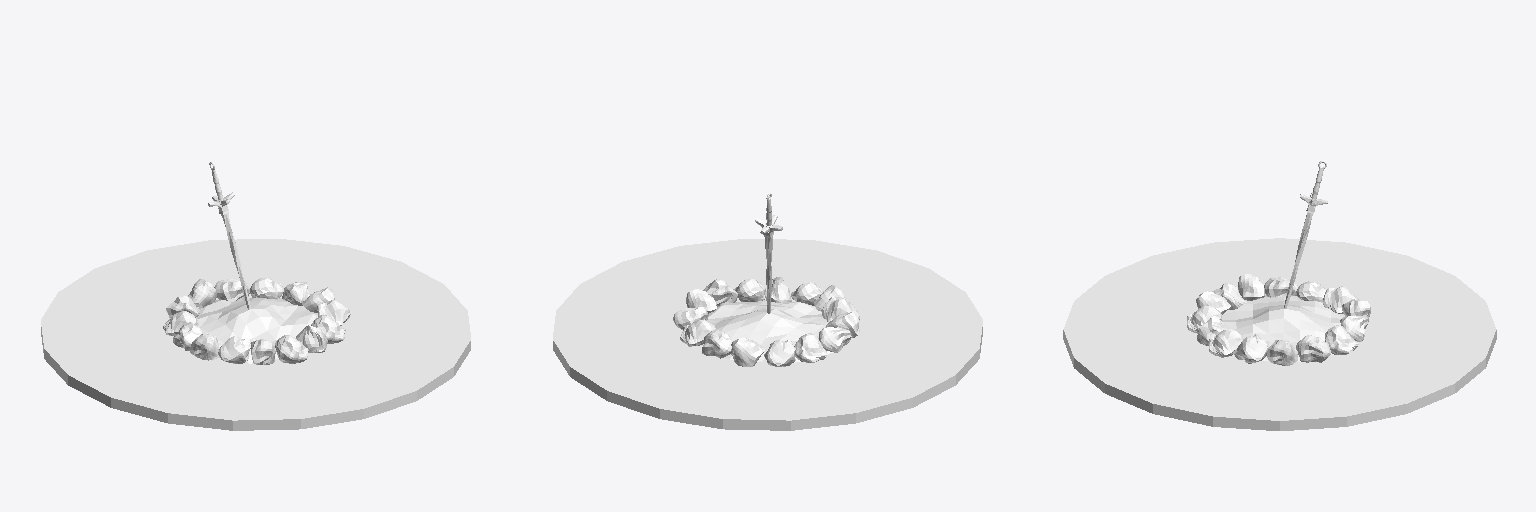
Rendered from bonefire.obj.
3 renders of one model, left to right at view 1: azimuth 30°, elevation 25°; view 2: azimuth 150°, elevation 25°; view 3: azimuth 270°, elevation 25°, orthographic.
Visible parts, largest first — view 1: piso_メッシュ.026, ceniza_メッシュ.002, filo_メッシュ.001, piedra_07_メッシュ.025, piedra_03.001_メッシュ.019, piedra_01.001_メッシュ.017, piedra_05_メッシュ.015, piedra_02.002_メッシュ.022, piedra_04_メッシュ.014, piedra_01.002_メッシュ.021, piedra_04.002_メッシュ.024, piedra_06_メッシュ.016; view 2: piso_メッシュ.026, ceniza_メッシュ.002, piedra_01.002_メッシュ.021, piedra_04.001_メッシュ.020, filo_メッシュ.001, piedra_03.002_メッシュ.023, piedra_02.002_メッシュ.022, piedra_02.001_メッシュ.018, piedra_04.002_メッシュ.024, piedra_03_メッシュ.013, piedra_04_メッシュ.014; view 3: piso_メッシュ.026, ceniza_メッシュ.002, filo_メッシュ.001, piedra_02_メッシュ.012, piedra_04_メッシュ.014, piedra_03_メッシュ.013, piedra_04.002_メッシュ.024, piedra_01_メッシュ.011, piedra_01.001_メッシュ.017, piedra_03.002_メッシュ.023.
Boxes of the visible parts, x1=… form: piso_メッシュ.026: x1=41, y1=239, x2=470, y2=430; ceniza_メッシュ.002: x1=196, y1=297, x2=317, y2=363; filo_メッシュ.001: x1=208, y1=192, x2=250, y2=309; piedra_07_メッシュ.025: x1=275, y1=335, x2=308, y2=363; piedra_03.001_メッシュ.019: x1=218, y1=336, x2=250, y2=363; piedra_01.001_メッシュ.017: x1=190, y1=334, x2=221, y2=360; piedra_05_メッシュ.015: x1=296, y1=325, x2=327, y2=352; piedra_02.002_メッシュ.022: x1=214, y1=279, x2=250, y2=301; piedra_04_メッシュ.014: x1=311, y1=315, x2=345, y2=343; piedra_01.002_メッシュ.021: x1=188, y1=279, x2=217, y2=307; piedra_04.002_メッシュ.024: x1=250, y1=278, x2=282, y2=299; piedra_06_メッシュ.016: x1=250, y1=339, x2=275, y2=364; piso_メッシュ.026: x1=553, y1=239, x2=982, y2=430; ceniza_メッシュ.002: x1=702, y1=300, x2=832, y2=362; piedra_01.002_メッシュ.021: x1=730, y1=338, x2=764, y2=366; piedra_04.001_メッシュ.020: x1=794, y1=333, x2=827, y2=362; filo_メッシュ.001: x1=755, y1=215, x2=782, y2=313; piedra_03.002_メッシュ.023: x1=764, y1=339, x2=795, y2=366; piedra_02.002_メッシュ.022: x1=702, y1=329, x2=732, y2=358; piedra_02.001_メッシュ.018: x1=819, y1=327, x2=851, y2=352; piedra_04.002_メッシュ.024: x1=680, y1=320, x2=715, y2=346; piedra_03_メッシュ.013: x1=703, y1=279, x2=737, y2=306; piedra_04_メッシュ.014: x1=733, y1=279, x2=765, y2=301; piso_メッシュ.026: x1=1063, y1=238, x2=1496, y2=430; ceniza_メッシュ.002: x1=1222, y1=295, x2=1344, y2=361; filo_メッシュ.001: x1=1284, y1=192, x2=1327, y2=308; piedra_02_メッシュ.012: x1=1296, y1=335, x2=1330, y2=362; piedra_04_メッシュ.014: x1=1209, y1=329, x2=1243, y2=357; piedra_03_メッシュ.013: x1=1233, y1=334, x2=1267, y2=363; piedra_04.002_メッシュ.024: x1=1325, y1=325, x2=1358, y2=354; piedra_01_メッシュ.011: x1=1267, y1=340, x2=1297, y2=365; piedra_01.001_メッシュ.017: x1=1238, y1=274, x2=1264, y2=300; piedra_03.002_メッシュ.023: x1=1323, y1=286, x2=1358, y2=313.
Size of the model in its own units: 13.65 by 5.84 by 13.65.